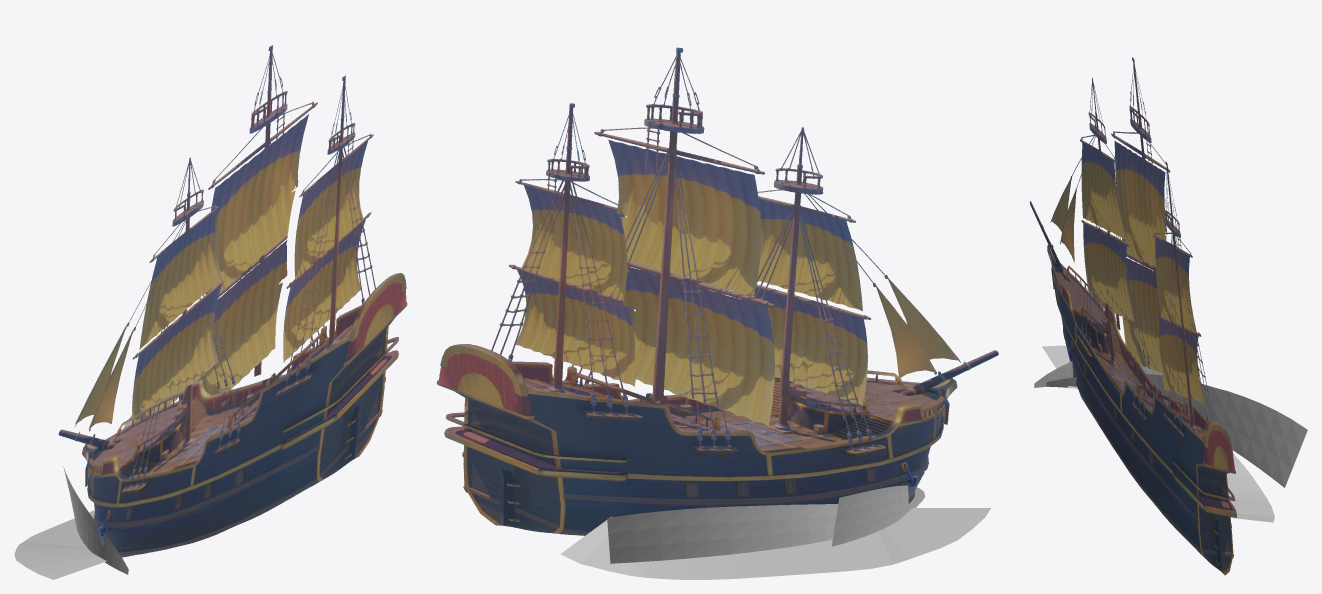
The model's file is pref_sce_081501_boat01_lv3.fbx.
3 views of the same model, side by side, from view 1: azimuth 30°, elevation 25°; view 2: azimuth 150°, elevation 25°; view 3: azimuth 270°, elevation 25° (orthographic). The views are drawn at different scales.
Visible parts, largest first — view 1: sm_081501_boat01_a_lv3, sm_081501_boat01_e_lv3, sm_081501_boat01_f_lv3, sm_fx_scene_0815_line_04_zx, sm_081501_boat01_b_lv3, sm_081501_boat01_c_lv3, mat_fx_scene_0815_smoke_01_zx, sm_081501_boat01_d_lv3; view 2: sm_081501_boat01_a_lv3, sm_081501_boat01_e_lv3, sm_081501_boat01_f_lv3, sm_fx_scene_0815_line_04_zx, mat_fx_scene_0815_smoke_02_zx, sm_081501_boat01_b_lv3, sm_081501_boat01_c_lv3, mat_fx_scene_0815_smoke_01_zx; view 3: sm_081501_boat01_a_lv3, sm_081501_boat01_e_lv3, sm_081501_boat01_f_lv3, mat_fx_scene_0815_smoke_02_zx, sm_fx_scene_0815_line_04_zx, sm_081501_boat01_b_lv3, sm_081501_boat01_c_lv3, mat_fx_scene_0815_smoke_01_zx.
Boxes of the visible parts, left/top/right/bottom form: sm_081501_boat01_a_lv3: left=58, top=75, right=407, bottom=557; sm_081501_boat01_e_lv3: left=196, top=114, right=308, bottom=394; sm_081501_boat01_f_lv3: left=75, top=209, right=222, bottom=428; sm_fx_scene_0815_line_04_zx: left=14, top=510, right=106, bottom=579; sm_081501_boat01_b_lv3: left=208, top=45, right=317, bottom=376; sm_081501_boat01_c_lv3: left=133, top=157, right=235, bottom=399; mat_fx_scene_0815_smoke_01_zx: left=63, top=466, right=128, bottom=574; sm_081501_boat01_d_lv3: left=75, top=208, right=192, bottom=431; sm_081501_boat01_a_lv3: left=436, top=103, right=998, bottom=535; sm_081501_boat01_e_lv3: left=608, top=140, right=774, bottom=426; sm_081501_boat01_f_lv3: left=741, top=199, right=959, bottom=405; sm_fx_scene_0815_line_04_zx: left=560, top=508, right=990, bottom=579; mat_fx_scene_0815_smoke_02_zx: left=607, top=504, right=838, bottom=563; sm_081501_boat01_b_lv3: left=594, top=47, right=775, bottom=408; sm_081501_boat01_c_lv3: left=746, top=127, right=870, bottom=419; mat_fx_scene_0815_smoke_01_zx: left=831, top=485, right=924, bottom=546; sm_081501_boat01_a_lv3: left=1030, top=161, right=1236, bottom=575; sm_081501_boat01_e_lv3: left=1114, top=140, right=1167, bottom=372; sm_081501_boat01_f_lv3: left=1051, top=142, right=1134, bottom=321; mat_fx_scene_0815_smoke_02_zx: left=1046, top=373, right=1307, bottom=487; sm_fx_scene_0815_line_04_zx: left=1042, top=345, right=1274, bottom=522; sm_081501_boat01_b_lv3: left=1111, top=57, right=1170, bottom=271; sm_081501_boat01_c_lv3: left=1080, top=77, right=1149, bottom=365; mat_fx_scene_0815_smoke_01_zx: left=1034, top=361, right=1162, bottom=387.
Size of the model in its own units: 28.38 by 30.77 by 15.67.
